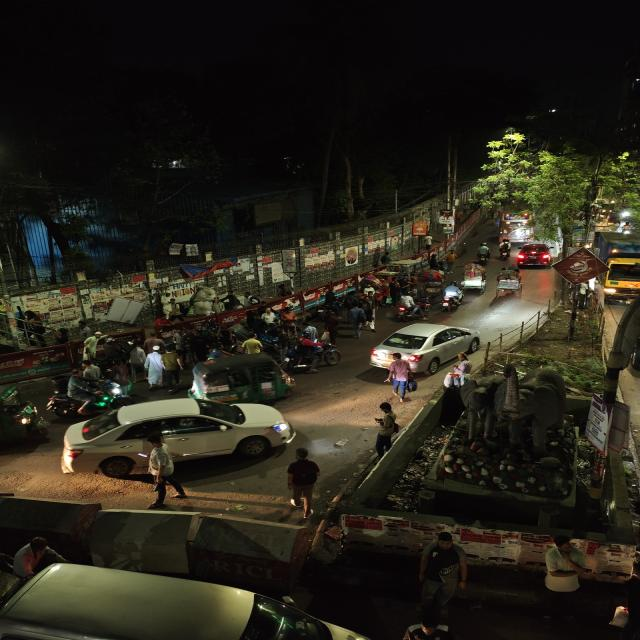car: (56, 392, 297, 476), (364, 320, 484, 372), (514, 242, 556, 270)
cng: (200, 352, 295, 404), (0, 393, 48, 447)
motorcycle: (282, 329, 340, 374), (46, 370, 99, 416), (392, 290, 432, 322), (438, 281, 464, 312), (497, 239, 512, 261)
pedestrian: (413, 530, 472, 619), (142, 440, 187, 504), (283, 446, 323, 514), (394, 620, 476, 640), (368, 410, 400, 458), (154, 344, 185, 388), (385, 356, 415, 401), (140, 344, 166, 389), (124, 343, 151, 382), (445, 354, 472, 388), (319, 310, 342, 345), (347, 302, 367, 338), (239, 333, 266, 355), (362, 302, 380, 333), (261, 305, 278, 327)
rickshaw: (546, 532, 640, 583), (493, 266, 527, 300), (458, 260, 490, 292), (414, 266, 450, 294)
truck: (594, 230, 640, 303)
